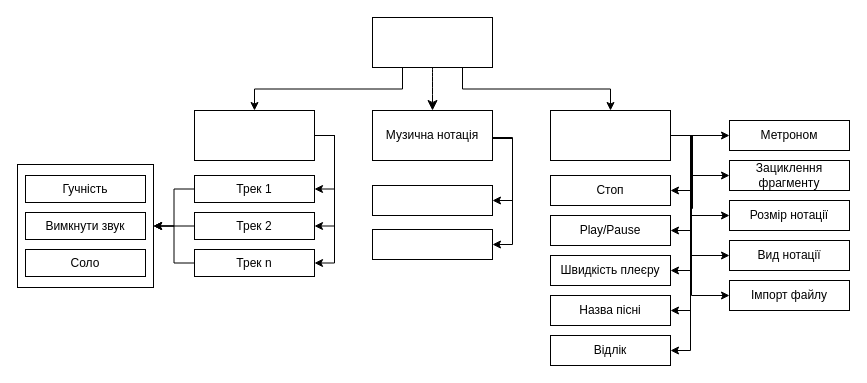
Some shapes in this 867 by 383 pixel diagram are drawn without their labels. Here are the shapes that lost their labels. From the top down, the centre of each, then its label:
point (432, 42): Веб-додаток
point (254, 135): Бокова панель з треками
point (610, 135): Нижня панель
point (432, 200): Зміна позиції курсору
point (432, 244): Вибір фрагменту пісні
